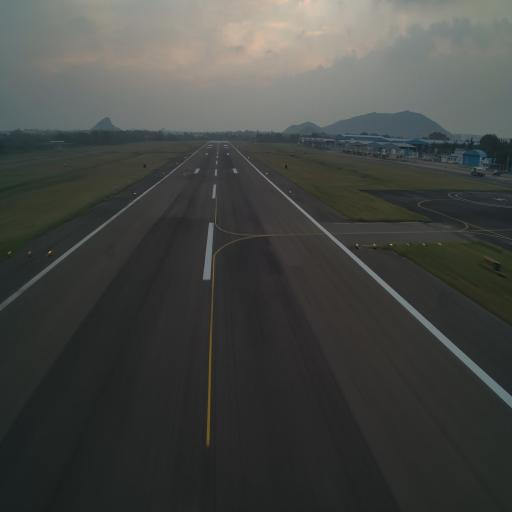on: (388, 242, 394, 250), (437, 240, 442, 247), (7, 250, 11, 258), (28, 249, 32, 257), (355, 242, 359, 250), (405, 242, 410, 248), (422, 241, 426, 248), (48, 249, 52, 255), (372, 243, 375, 248)
